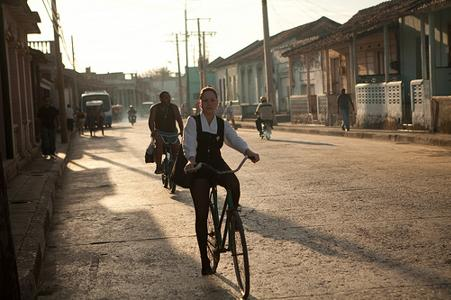person: (182, 86, 261, 278)
